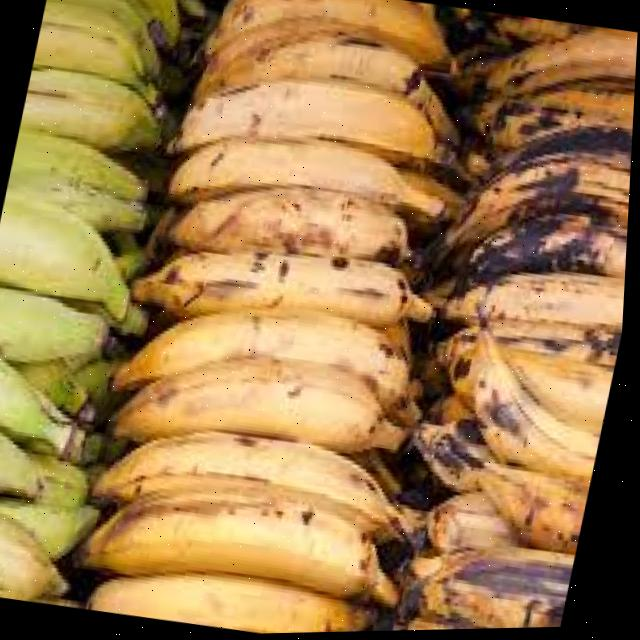Banana: (100, 433, 403, 536), (90, 505, 405, 602), (118, 311, 413, 410), (120, 359, 412, 456), (136, 253, 436, 329), (421, 425, 595, 555), (179, 82, 443, 162), (471, 334, 605, 481), (173, 189, 411, 266), (450, 156, 633, 253), (96, 576, 378, 635), (173, 140, 408, 209), (208, 0, 449, 67), (0, 202, 133, 322), (202, 38, 419, 96), (22, 71, 159, 151), (430, 557, 578, 631), (488, 33, 638, 99), (13, 131, 149, 201), (506, 352, 617, 434), (0, 356, 86, 461), (0, 288, 111, 362), (494, 95, 635, 153), (491, 278, 628, 330), (34, 25, 143, 84), (0, 521, 74, 600), (0, 432, 45, 499)
